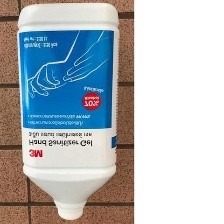cleaning_solution: (13, 0, 121, 221)
